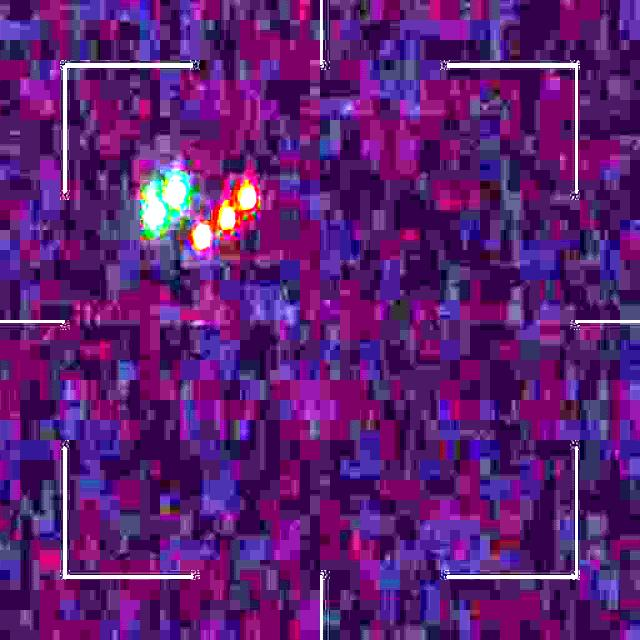bird: (146, 180, 256, 250)
